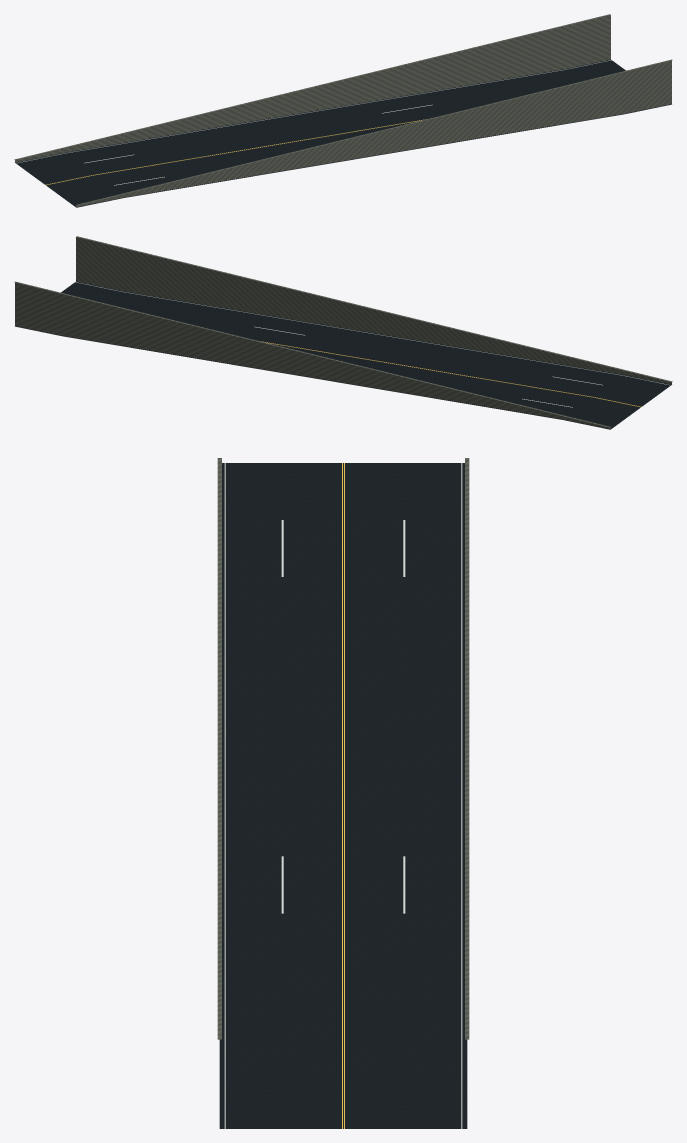
File: underpass_ramp_4lane_80m_LOD2.glb
3 renders of one model, top to bottom at view 1: azimuth 30°, elevation 25°; view 2: azimuth 150°, elevation 25°; view 3: azimuth 270°, elevation 25°, orthographic. The views are drawn at different scales.
Parts seen in each view (by area): view 1: underpass_ramp_4lane_80m__retaining_walls.002, underpass_ramp_4lane_80m__channel.002; view 2: underpass_ramp_4lane_80m__retaining_walls.002, underpass_ramp_4lane_80m__channel.002; view 3: underpass_ramp_4lane_80m__channel.002, underpass_ramp_4lane_80m__retaining_walls.002.
Boxes of the visible parts, box(x1,y1,x2,y2) form: underpass_ramp_4lane_80m__retaining_walls.002: box(14, 14, 672, 207); underpass_ramp_4lane_80m__channel.002: box(15, 59, 671, 207); underpass_ramp_4lane_80m__retaining_walls.002: box(14, 236, 672, 429); underpass_ramp_4lane_80m__channel.002: box(15, 281, 671, 429); underpass_ramp_4lane_80m__channel.002: box(219, 463, 467, 1128); underpass_ramp_4lane_80m__retaining_walls.002: box(217, 458, 469, 1039).
Size of the model in its own units: 80 by 5.72 by 14.64.
5 materials, 3 textured.
